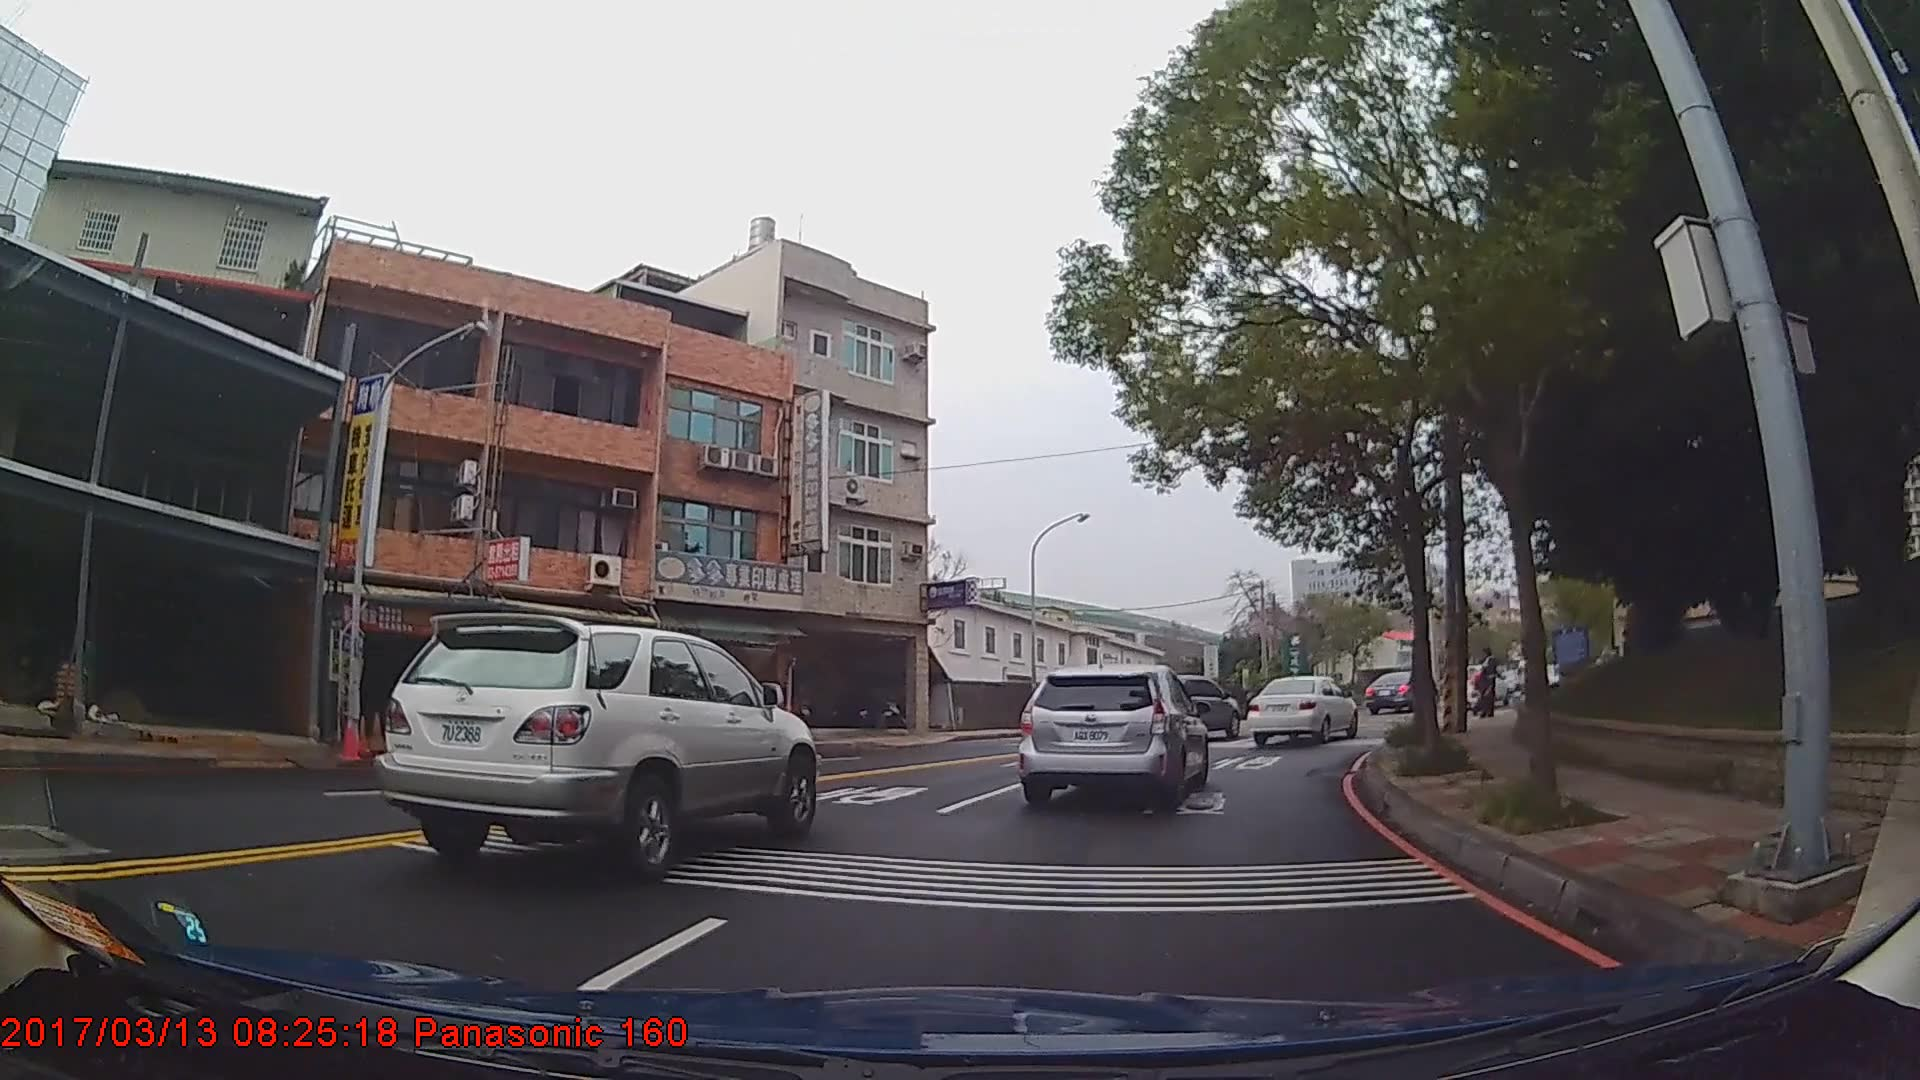vehicle: (371, 611, 820, 886), (1015, 662, 1209, 814), (1244, 673, 1360, 744), (1146, 674, 1241, 740), (1366, 669, 1435, 716)
